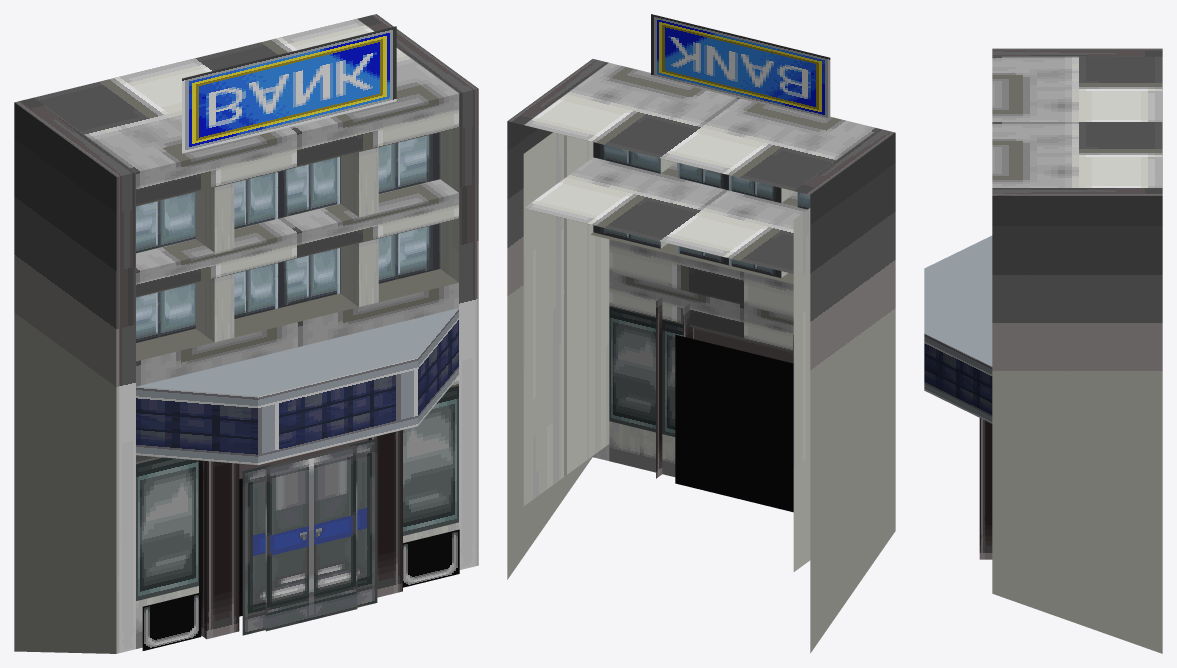
The picture shows the model from 3 angles, left to right: view 1: azimuth 30°, elevation 25°; view 2: azimuth 150°, elevation 25°; view 3: azimuth 270°, elevation 25°; orthographic projection. The views are drawn at different scales.
Visible parts, largest first — view 1: shop_bank; view 2: shop_bank; view 3: shop_bank.
Boxes of the visible parts, left/top/right/bottom form: shop_bank: left=14, top=14, right=478, bottom=653; shop_bank: left=507, top=14, right=895, bottom=653; shop_bank: left=924, top=48, right=1162, bottom=653.
Size of the model in its own units: 2.77 by 4.57 by 1.89.
10 materials, 10 textured.
